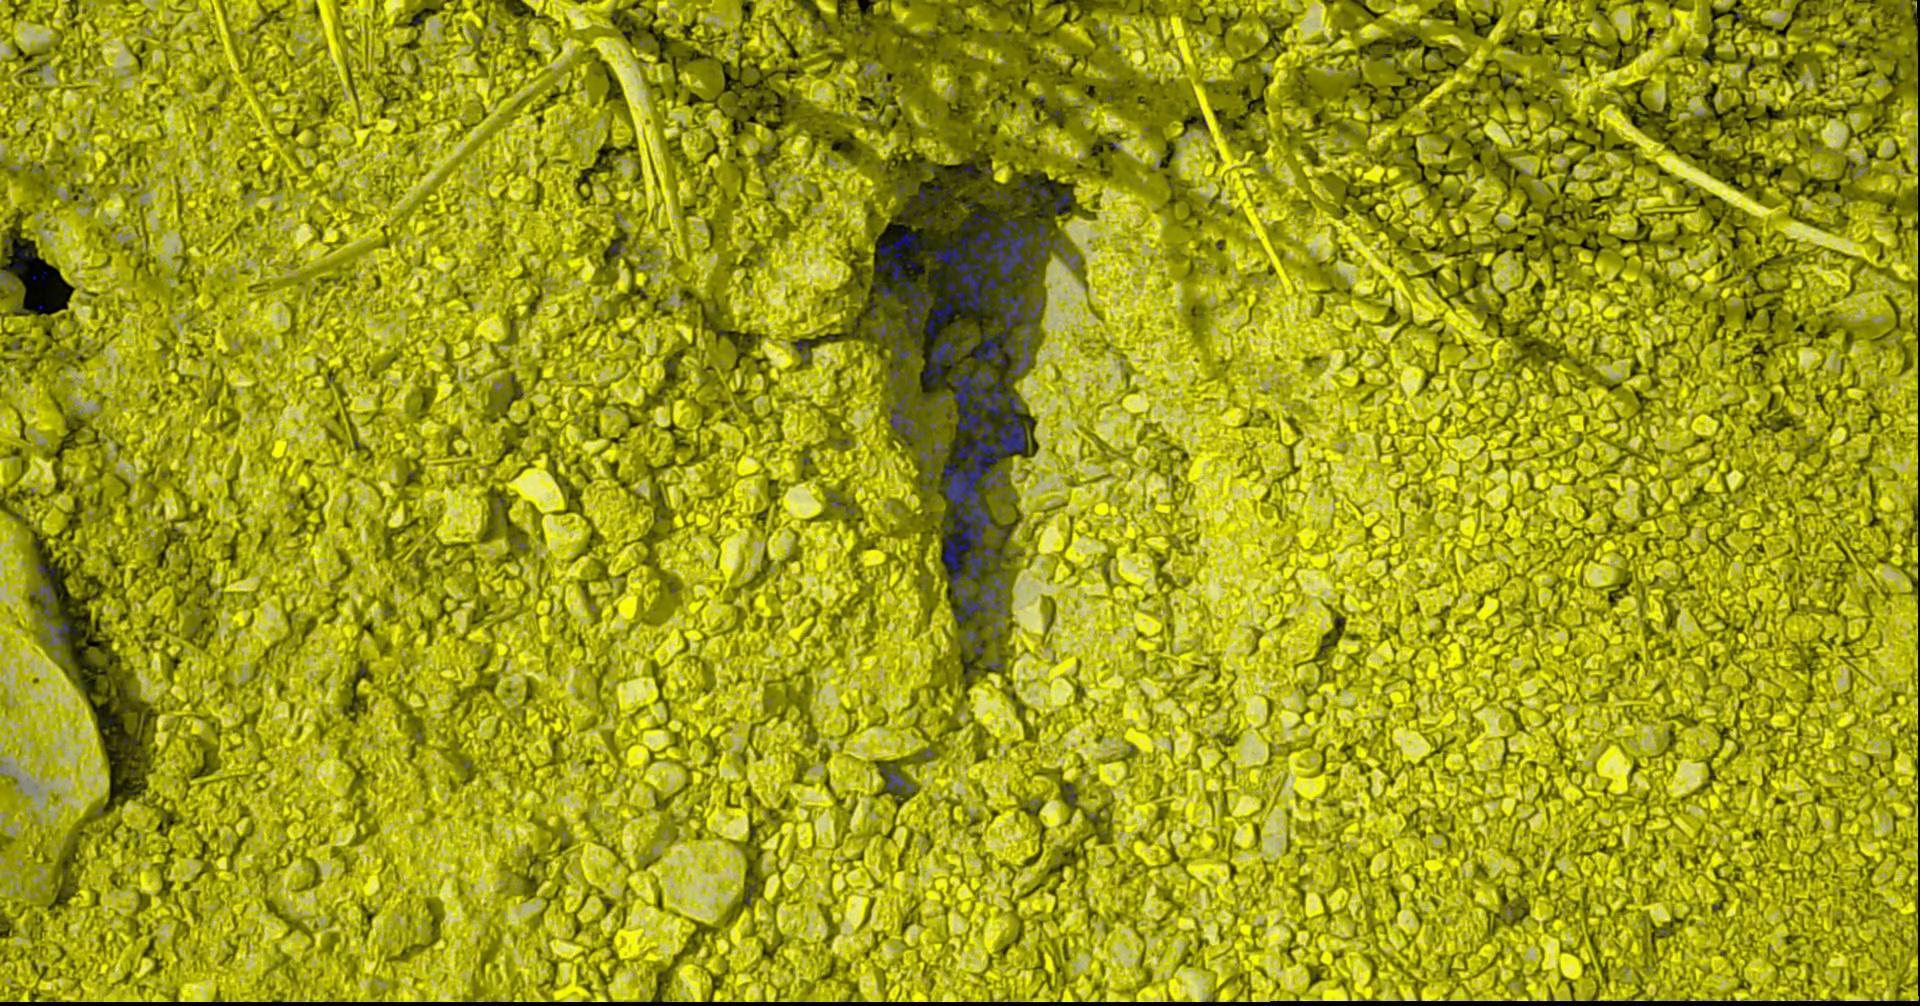ant: (876, 260, 931, 351), (888, 394, 924, 445), (875, 232, 928, 257), (879, 763, 912, 793), (871, 312, 902, 338), (1018, 179, 1048, 203), (961, 211, 994, 231), (41, 580, 57, 620), (960, 629, 985, 653), (891, 339, 910, 365), (56, 619, 76, 641), (871, 282, 897, 298), (1053, 192, 1069, 211), (1062, 782, 1074, 807), (36, 565, 55, 575)
